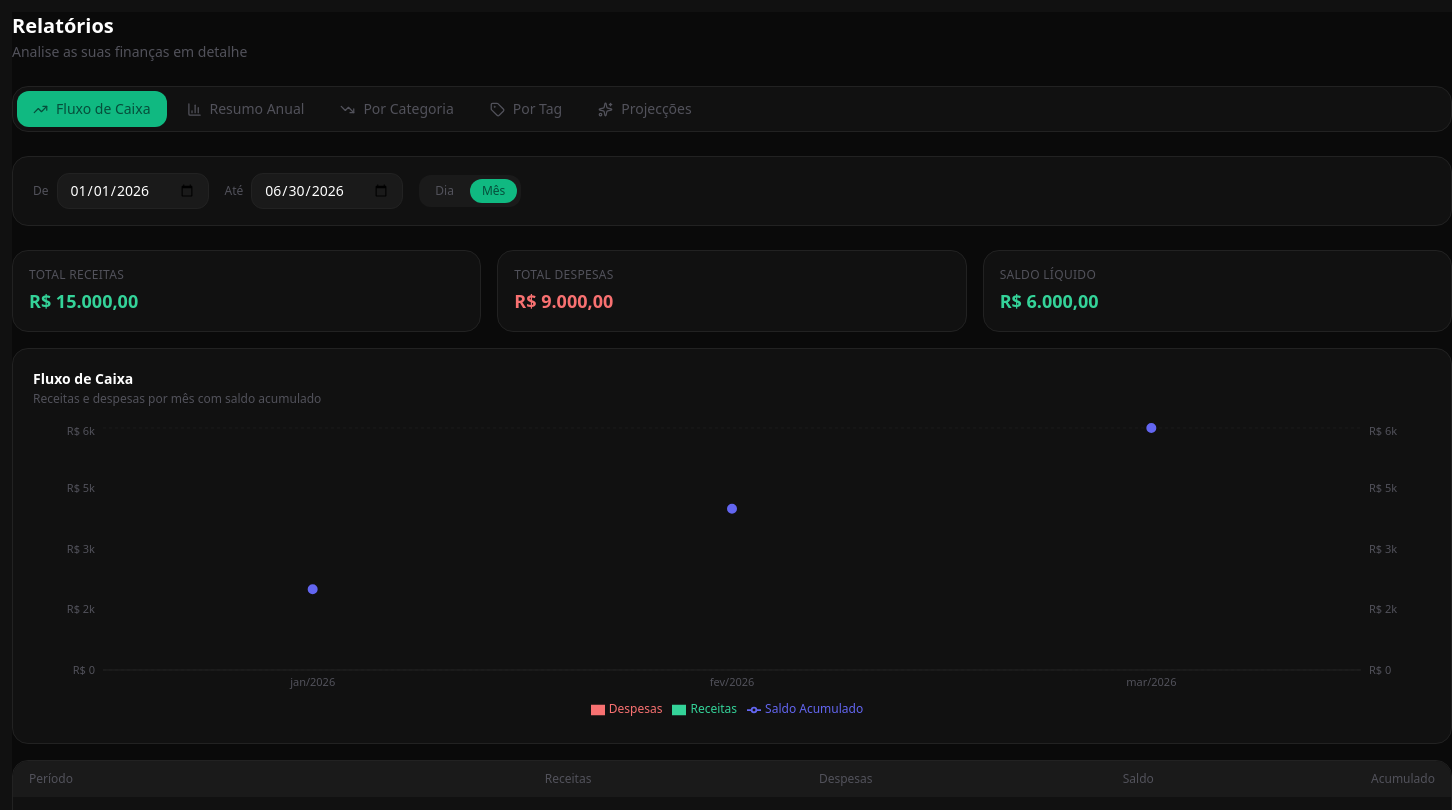
Test: ReportsPage › deve exibir toggle de tipo na tab Por Categoria
Click the button "Por Categoria". click: (397, 109)
box: [324, 91, 470, 127]
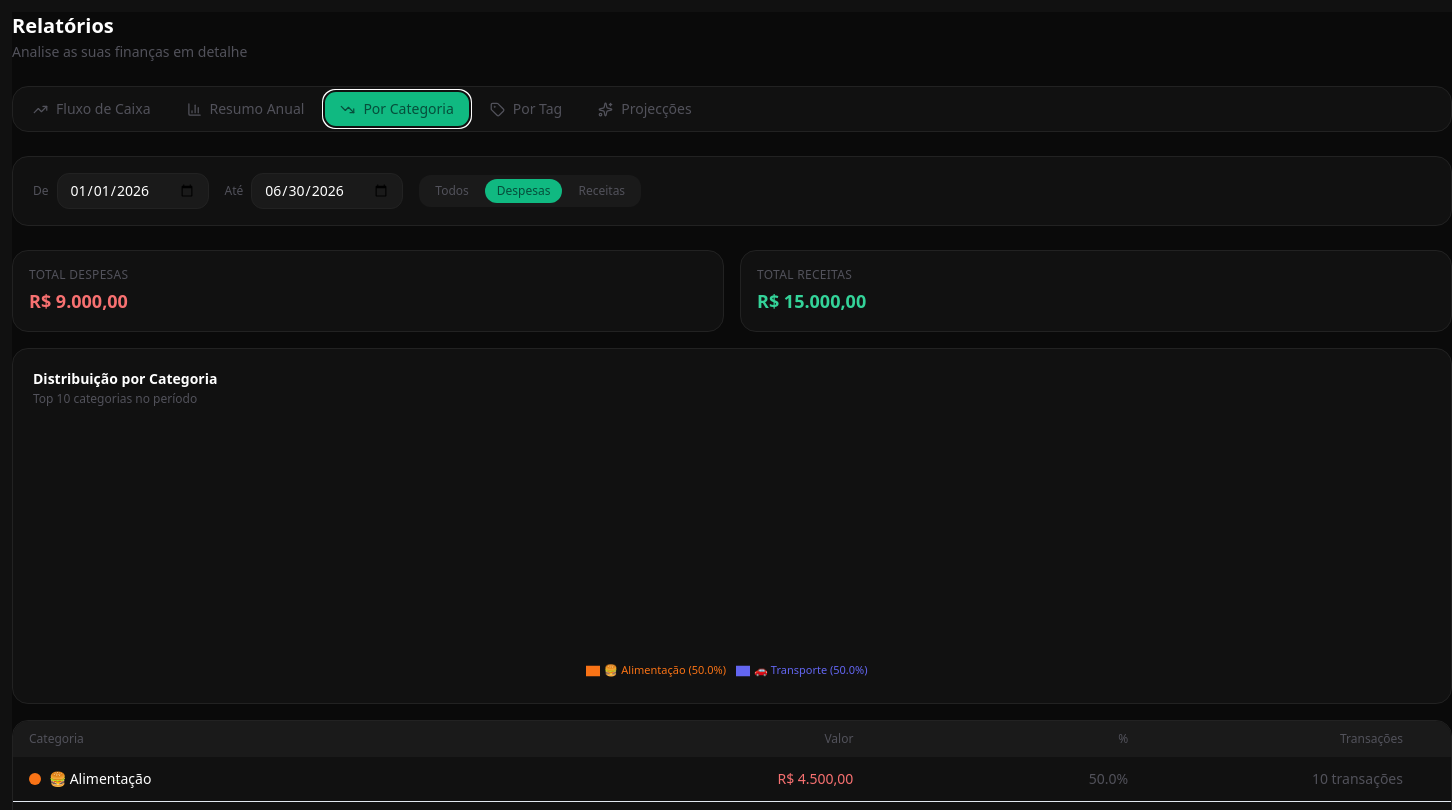
Expected: the button "Despesas" is shown, [485, 179, 562, 203]
Expected: the button "Todos" is shown, [423, 179, 481, 203]
